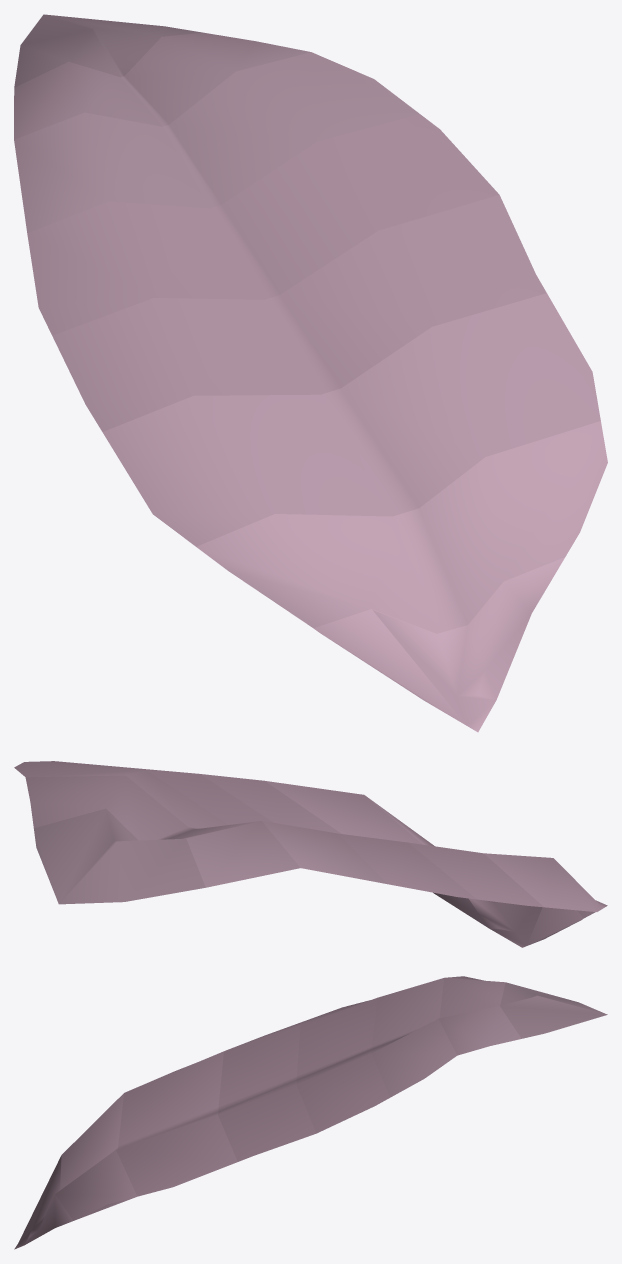
Rendered from pinkpetal.fbx.
3 renders of one model, top to bottom at view 1: azimuth 30°, elevation 25°; view 2: azimuth 150°, elevation 25°; view 3: azimuth 270°, elevation 25°, orthographic. The views are drawn at different scales.
Visible parts, largest first — view 1: pasted__polySurface1; view 2: pasted__polySurface1; view 3: pasted__polySurface1.
Part boxes in pixels (x1=…): pasted__polySurface1: x1=14, y1=14, x2=607, y2=732; pasted__polySurface1: x1=14, y1=761, x2=607, y2=947; pasted__polySurface1: x1=14, y1=976, x2=607, y2=1249.
Size of the model in its own units: 0.2192 by 0.1861 by 0.3816.
